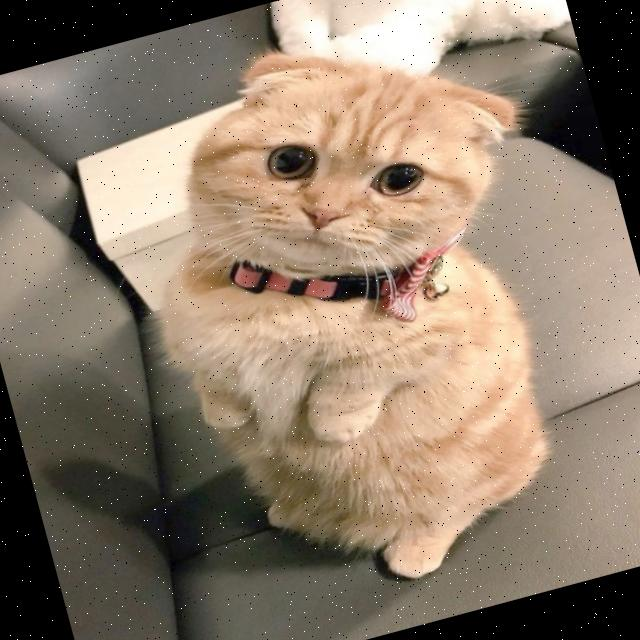cat: (80, 0, 640, 623)
